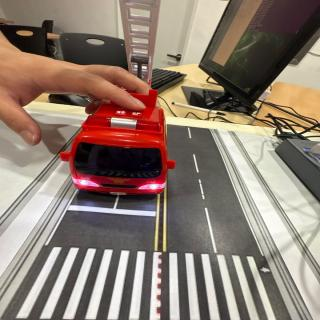Fire_truck: (60, 89, 175, 194)
